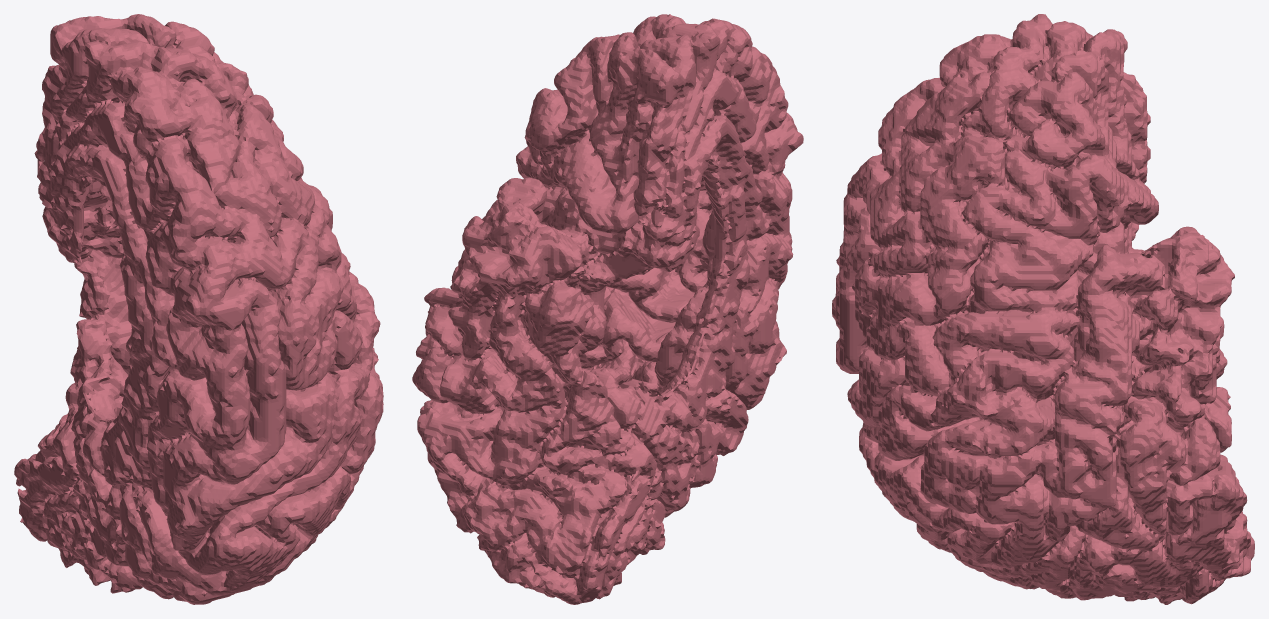
The model's file is aseg_042_Right-Cerebral-Cortex.glb.
3 views of the same model, side by side, from view 1: azimuth 30°, elevation 25°; view 2: azimuth 150°, elevation 25°; view 3: azimuth 270°, elevation 25° (orthographic). The views are drawn at different scales.
Size of the model in its own units: 76.8 by 156 by 110.
